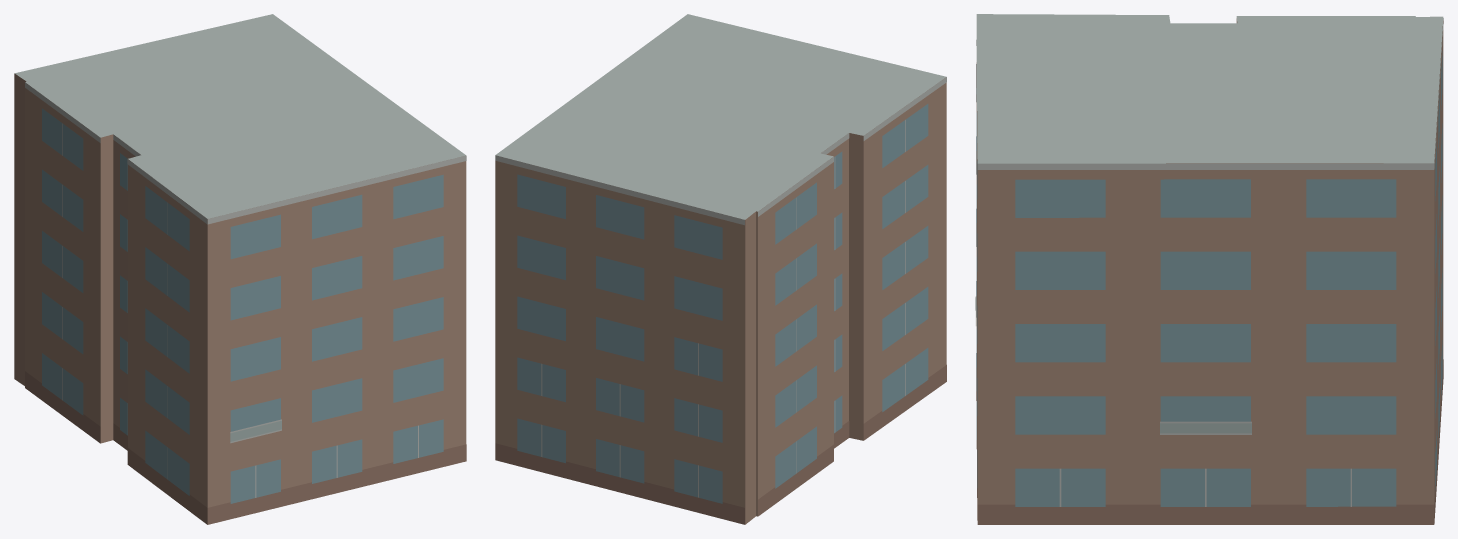
The model's file is survey-upis-32970329.glb.
3 renders of one model, left to right at view 1: azimuth 30°, elevation 25°; view 2: azimuth 150°, elevation 25°; view 3: azimuth 270°, elevation 25°, orthographic. The views are drawn at different scales.
Parts seen in each view (by area): view 1: survey-upis-32970329.tmp; view 2: survey-upis-32970329.tmp; view 3: survey-upis-32970329.tmp.
Part boxes in pixels (left/top/right/bottom): survey-upis-32970329.tmp: left=14, top=14, right=466, bottom=524; survey-upis-32970329.tmp: left=495, top=14, right=946, bottom=524; survey-upis-32970329.tmp: left=975, top=14, right=1443, bottom=524.
Size of the model in its own units: 12.06 by 13.55 by 15.91.
